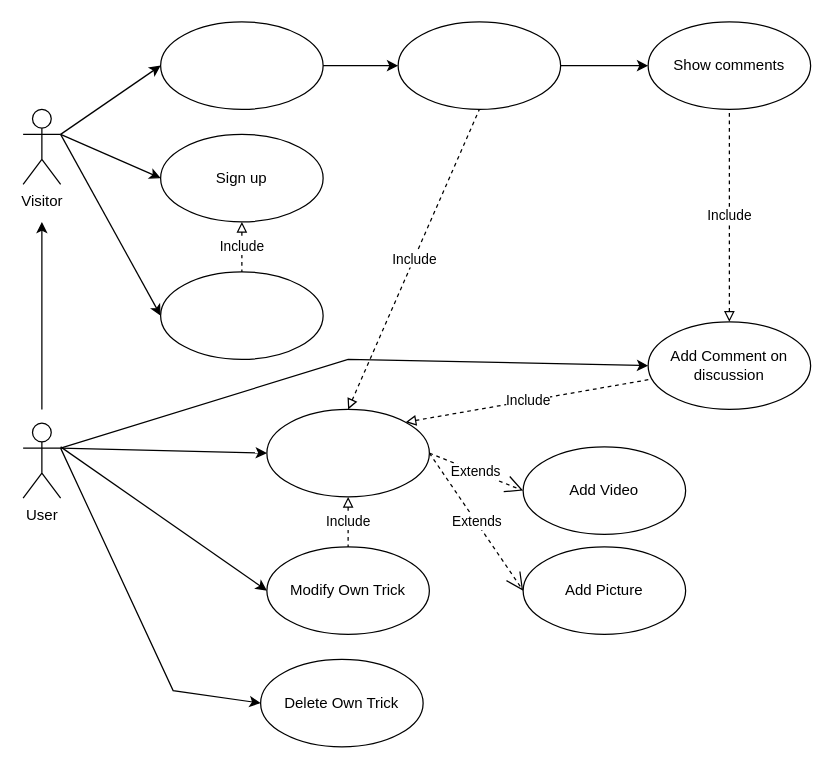
The diagram is 833 pixels wide and 769 high, and some of its shapes have lost their labels. Each missing label, with the box of its shape:
Add Trick: (266, 408, 429, 497)
navigate in site: (159, 21, 323, 109)
Show tricks: (397, 21, 561, 109)
Sign in: (159, 271, 323, 359)
